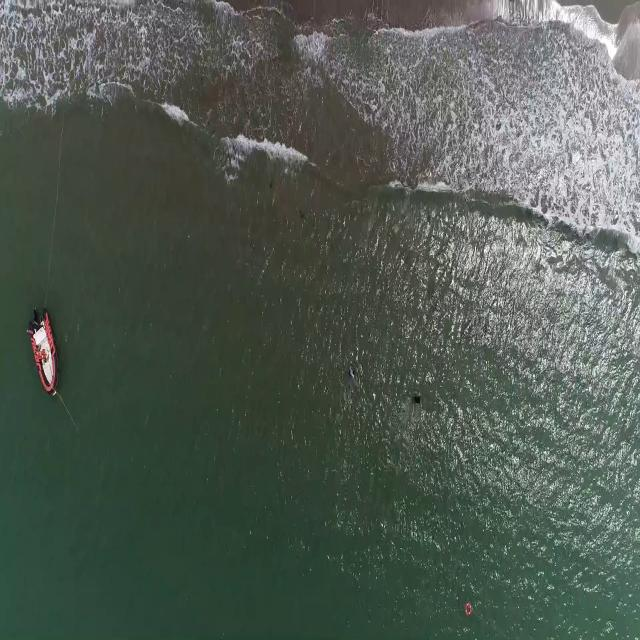boat: (29, 309, 59, 397)
life_buoy: (464, 602, 473, 617)
person: (412, 387, 423, 407), (348, 362, 358, 383)
